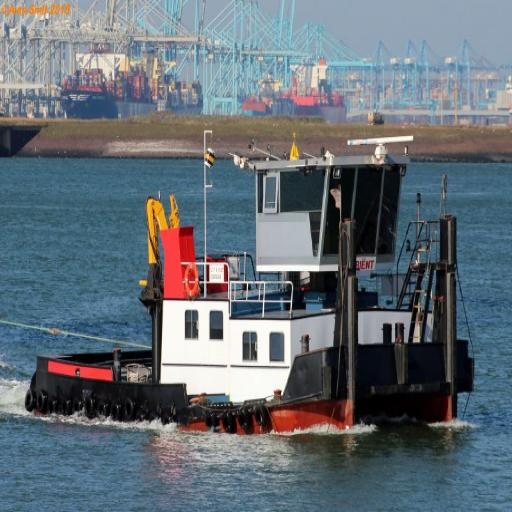tugboat: (22, 134, 479, 448)
